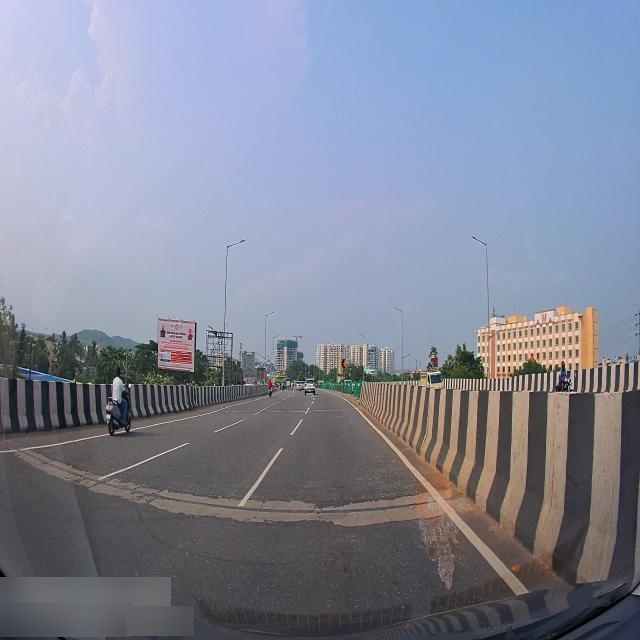pothole: (18, 436, 464, 530)
